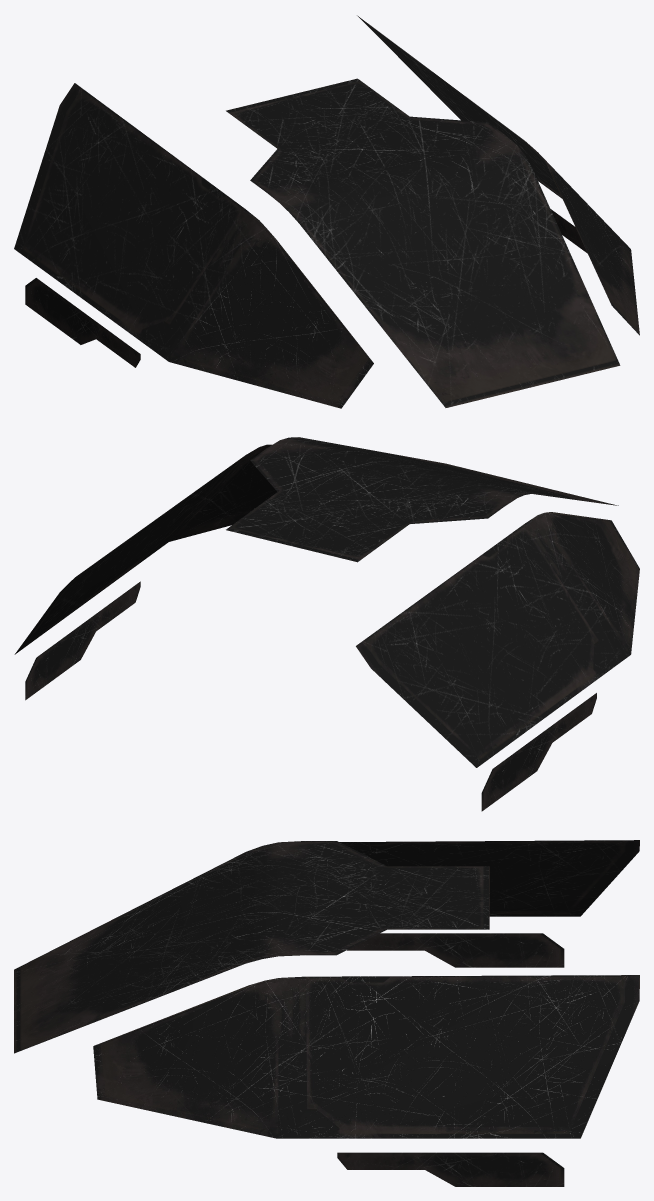
File: VA_HeavyFighterCockpit1_Glass_Glass_0.obj
The picture shows the model from 3 angles, top to bottom: view 1: azimuth 30°, elevation 25°; view 2: azimuth 150°, elevation 25°; view 3: azimuth 270°, elevation 25°; orthographic projection.
Visible parts, largest first — view 1: VA_HeavyFighterCockpit1_Glass_Glass_0; view 2: VA_HeavyFighterCockpit1_Glass_Glass_0; view 3: VA_HeavyFighterCockpit1_Glass_Glass_0.
Boxes of the visible parts, x1=… form: VA_HeavyFighterCockpit1_Glass_Glass_0: x1=14, y1=15, x2=639, y2=408; VA_HeavyFighterCockpit1_Glass_Glass_0: x1=14, y1=437, x2=639, y2=811; VA_HeavyFighterCockpit1_Glass_Glass_0: x1=14, y1=840, x2=639, y2=1186.
Size of the model in its own units: 241 by 90.58 by 287.
